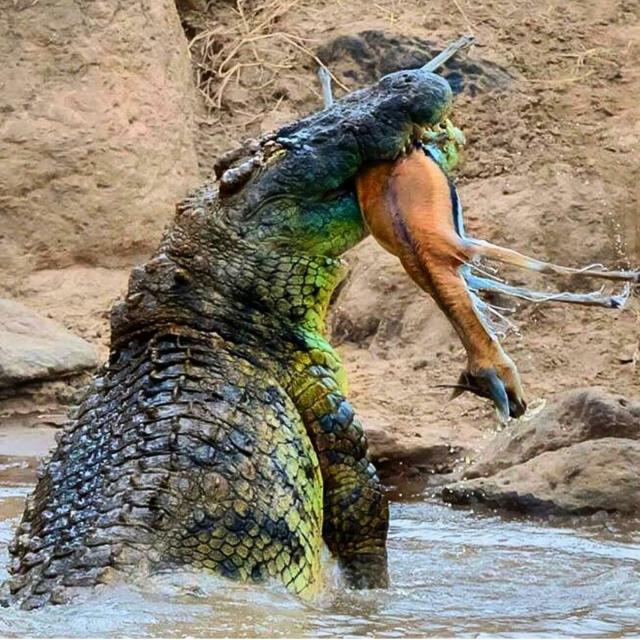crocodile: (0, 62, 468, 610)
